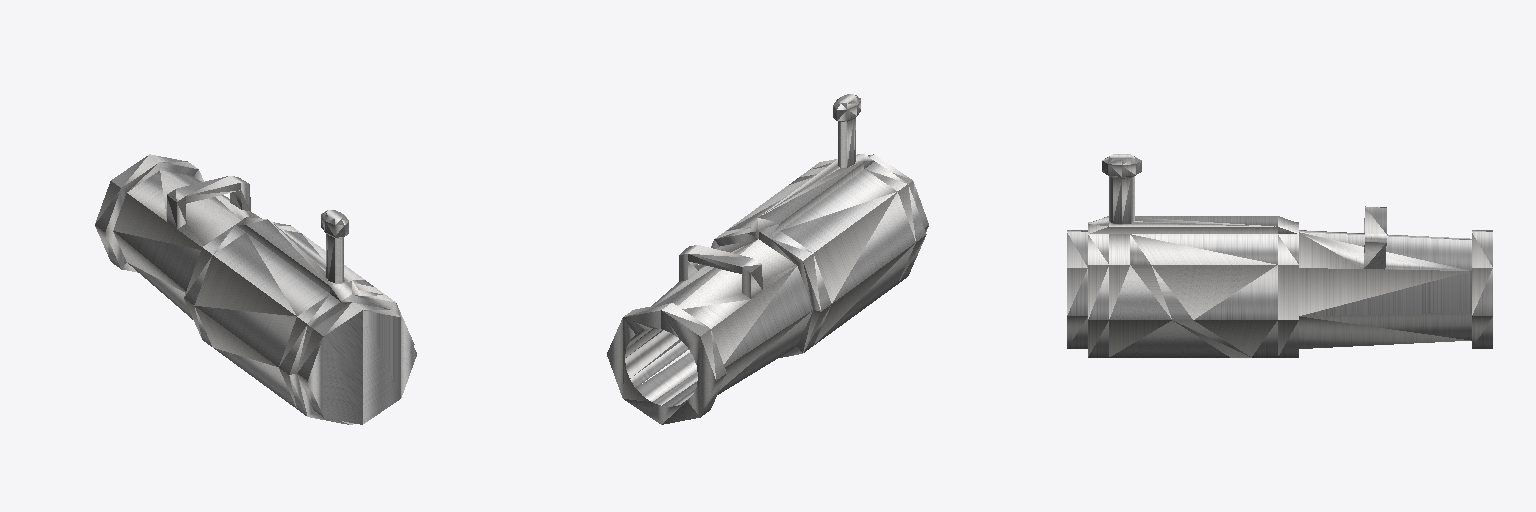
3 renders of one model, left to right at view 1: azimuth 30°, elevation 25°; view 2: azimuth 150°, elevation 25°; view 3: azimuth 270°, elevation 25°, orthographic.
Visible parts, largest first — view 1: Mesh_Mesh1_Component_4_1_Model; view 2: Mesh_Mesh1_Component_4_1_Model; view 3: Mesh_Mesh1_Component_4_1_Model.
Part boxes in pixels (left/top/right/bottom): Mesh_Mesh1_Component_4_1_Model: left=95, top=154, right=416, bottom=424; Mesh_Mesh1_Component_4_1_Model: left=607, top=94, right=928, bottom=424; Mesh_Mesh1_Component_4_1_Model: left=1067, top=154, right=1492, bottom=357.
Bounding box in the file's own units: 3.43 × 5.19 × 10.09.
1 materials, 1 textured.